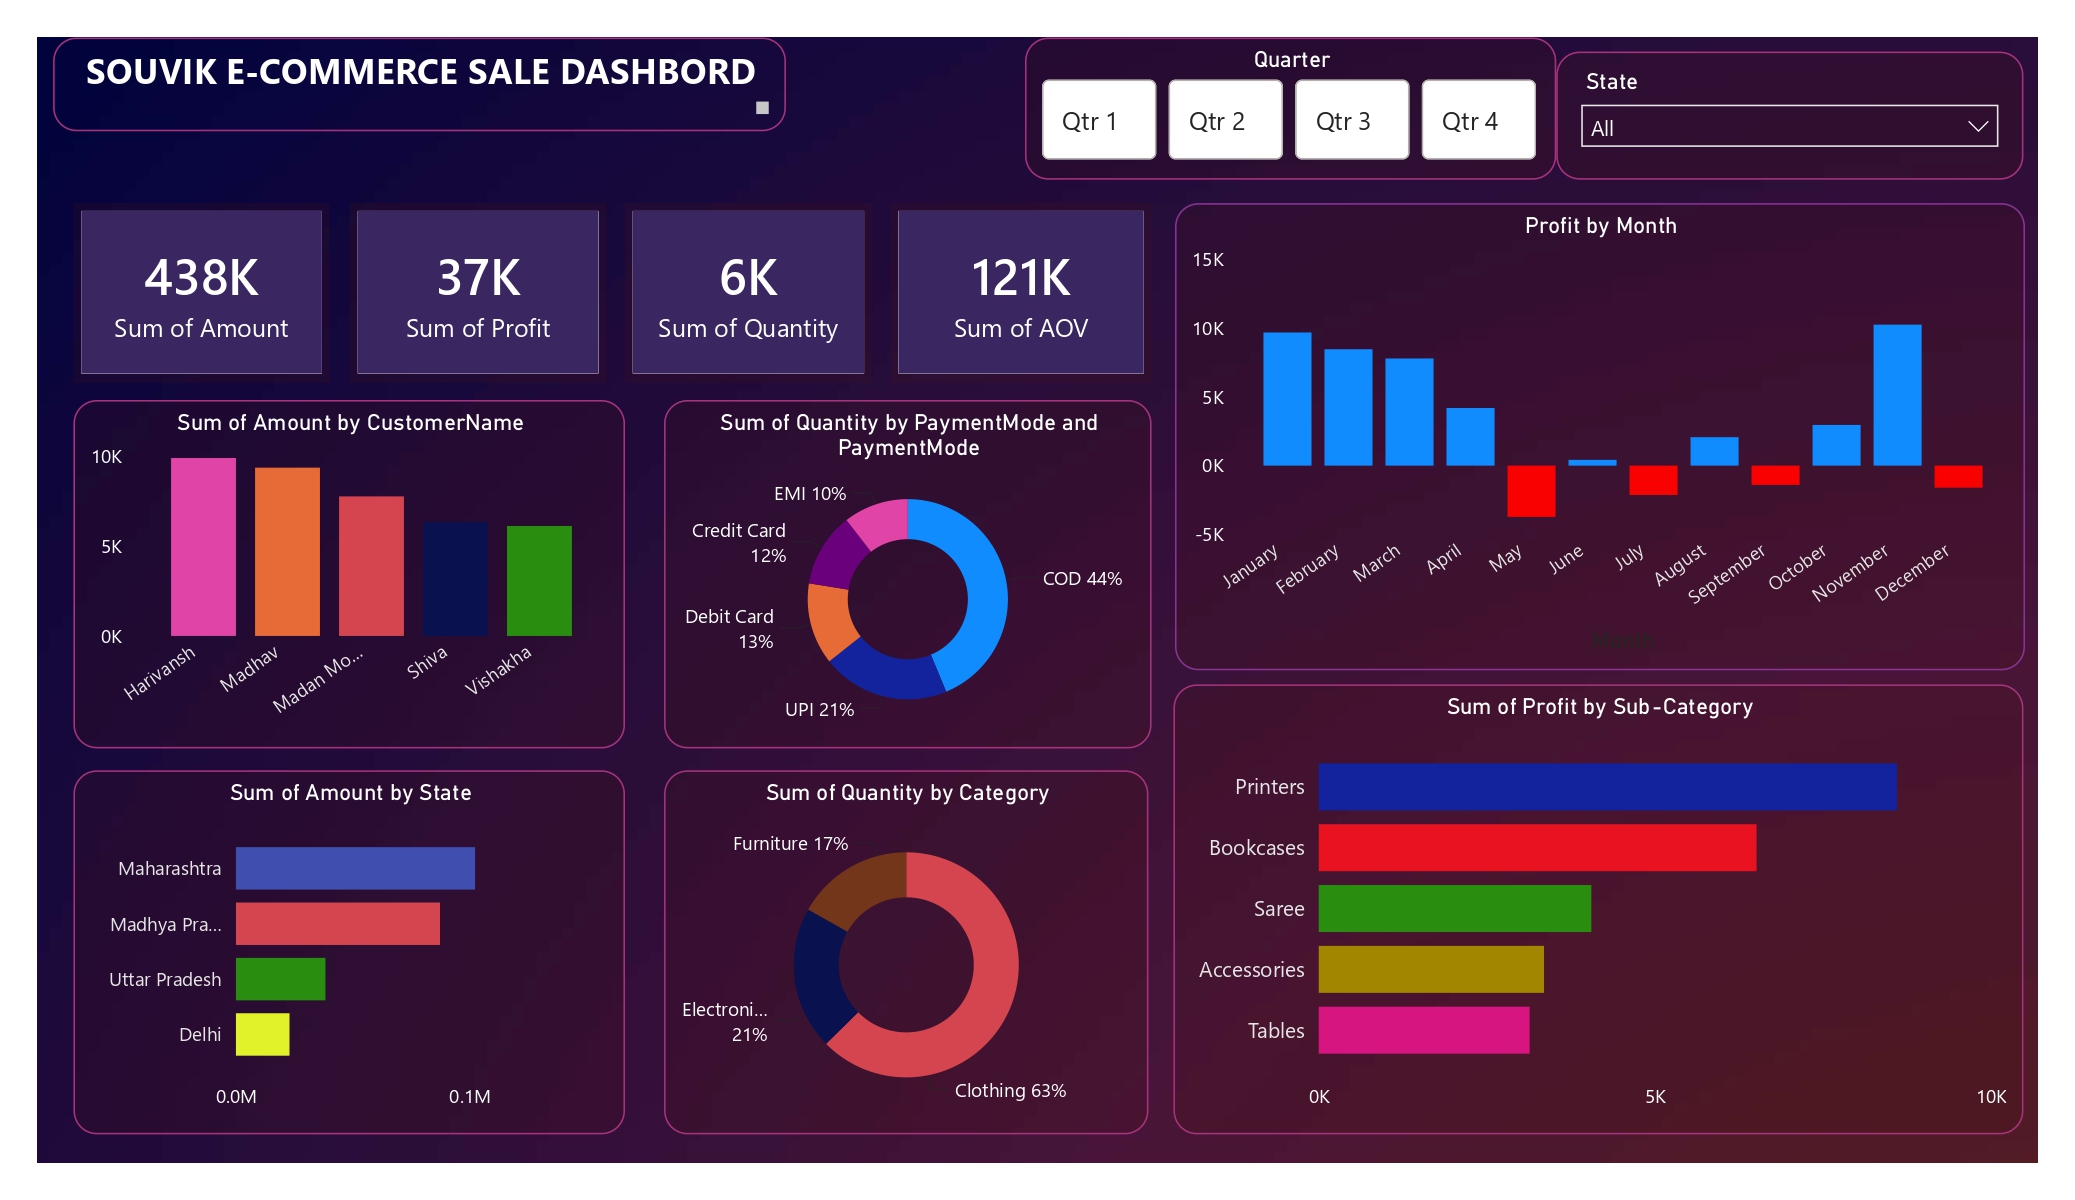

Layout of this report page (visuals, bound fields, positions):
{"tool":"powerbi","page":{"name":"Page 1","canvas":[1280,720],"ordinal":0},"visuals":[{"type":"textbox","title":"SOUVIK E-COMMERCE SALE DASHBORD","box":[10.1,0,468.7,60.5],"z":0},{"type":"columnChart","title":"Profit by Month","fields":{"Category":["Orders.Order Date.Variation.Date Hierarchy.Month"],"Y":["Sum(Details.Profit)"]},"box":[727.7,106.2,544.6,298.5],"z":1000},{"type":"barChart","fields":{"Category":["Details.Sub-Category"],"Y":["Sum(Details.Profit)"]},"box":[726.5,414.3,544.9,287.8],"z":2000},{"type":"donutChart","fields":{"Category":["Details.Category"],"Y":["Sum(Details.Quantity)"]},"box":[401.1,469.1,310.4,232.4],"z":3000},{"type":"donutChart","fields":{"Y":["Sum(Details.Quantity)"],"Series":["Details.PaymentMode"],"Category":["Details.PaymentMode"]},"box":[401.1,232.4,311.8,222.5],"z":4000},{"type":"cardVisual","fields":{"Data":["Sum(Details.Amount)"]},"box":[22.7,106.3,164.4,114.8],"z":5000},{"type":"cardVisual","fields":{"Data":["Sum(Details.Quantity)"]},"box":[375.6,106.3,158.7,114.8],"z":6000},{"type":"cardVisual","fields":{"Data":["Sum(Details.Profit)"]},"box":[199.8,106.3,164.4,114.8],"z":7000},{"type":"cardVisual","fields":{"Data":["Sum(Details.AOV)"]},"box":[545.7,106.3,167.2,114.8],"z":8000},{"type":"barChart","fields":{"Category":["Orders.State"],"Y":["Sum(Details.Amount)"]},"box":[22.7,469.1,352.9,232.4],"z":9000},{"type":"columnChart","fields":{"Category":["Orders.CustomerName"],"Y":["Sum(Details.Amount)"]},"box":[22.7,232.4,352.9,222.5],"z":10000},{"type":"advancedSlicerVisual","fields":{"Values":["Orders.Order Date.Variation.Date Hierarchy.Quarter"]},"box":[632.1,0,340.2,90.7],"z":11000},{"type":"slicer","fields":{"Values":["Orders.State"]},"box":[972.3,8.5,299.1,82.2],"z":12000}]}

Visuals, with their boxes in screenshot pixels (x1, y1, x2, y2):
"SOUVIK E-COMMERCE SALE DASHBORD" textbox: 16/32/765/129
"Profit by Month" columnChart: 1163/202/2034/679
barChart - Details.Sub-Category x Sum(Details.Profit): 1161/695/2033/1155
donutChart - Details.Category x Sum(Details.Quantity): 641/782/1137/1154
donutChart - Sum(Details.Quantity) x Details.PaymentMode: 641/404/1140/760
cardVisual - Sum(Details.Amount): 36/202/299/386
cardVisual - Sum(Details.Quantity): 600/202/854/386
cardVisual - Sum(Details.Profit): 319/202/582/386
cardVisual - Sum(Details.AOV): 872/202/1140/386
barChart - Orders.State x Sum(Details.Amount): 36/782/600/1154
columnChart - Orders.CustomerName x Sum(Details.Amount): 36/404/600/760
advancedSlicerVisual - Orders.Order Date.Variation.Date Hierarchy.Quarter: 1011/32/1554/177
slicer - Orders.State: 1554/46/2033/177
